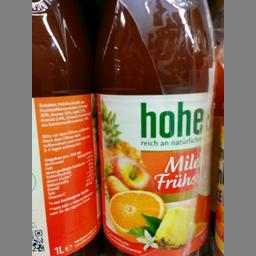juice: (94, 0, 212, 254), (30, 0, 100, 255)
